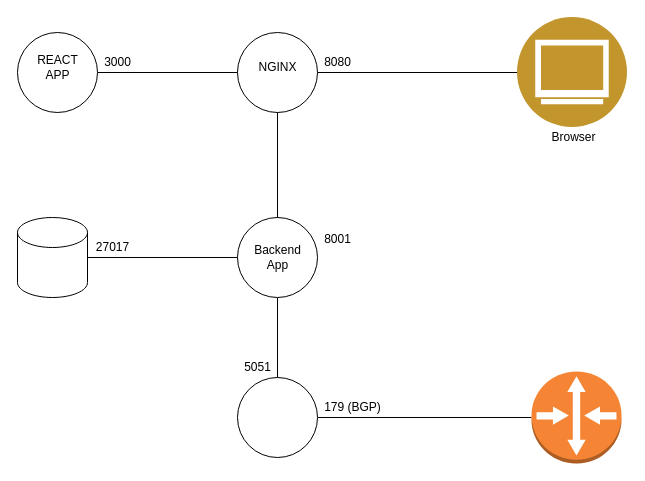
Some shapes in this 645 by 481 pixel diagram are drawn without their labels. Here are the shapes that lost their labels. From the top down, the centre of each, then its label:
At point 52,257: "MongoDB".
At point 277,417: "GoBGPd".
